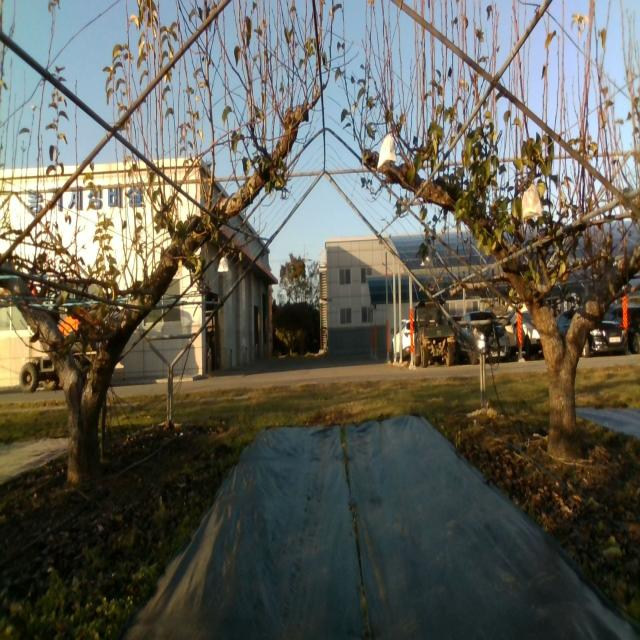pearbags: (522, 183, 544, 225), (378, 133, 397, 169), (217, 255, 229, 272)
